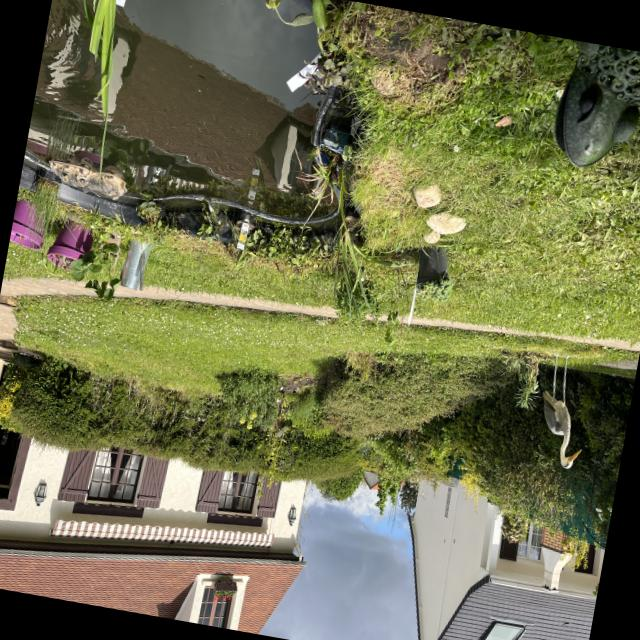Heron: (517, 350, 603, 482)
